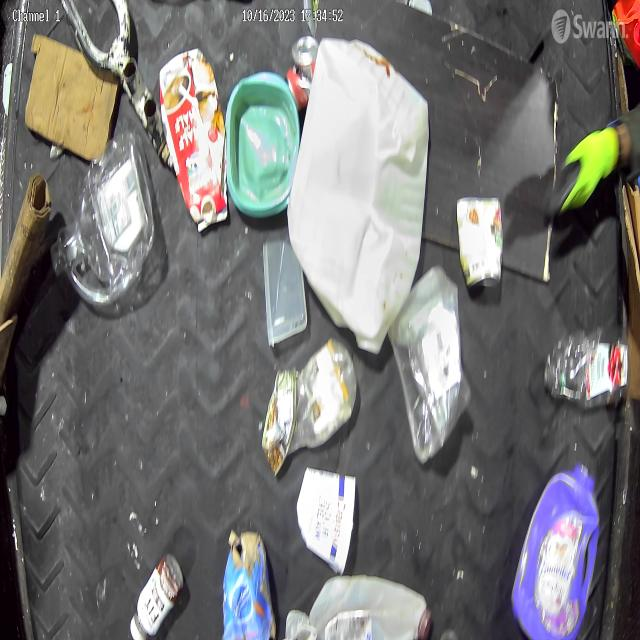can: (257, 367, 295, 468), (457, 198, 502, 275), (290, 31, 315, 111)
milk_jug: (290, 36, 429, 355)
non_white_jug: (516, 454, 594, 633)
plastic_bottle: (296, 347, 358, 455)
